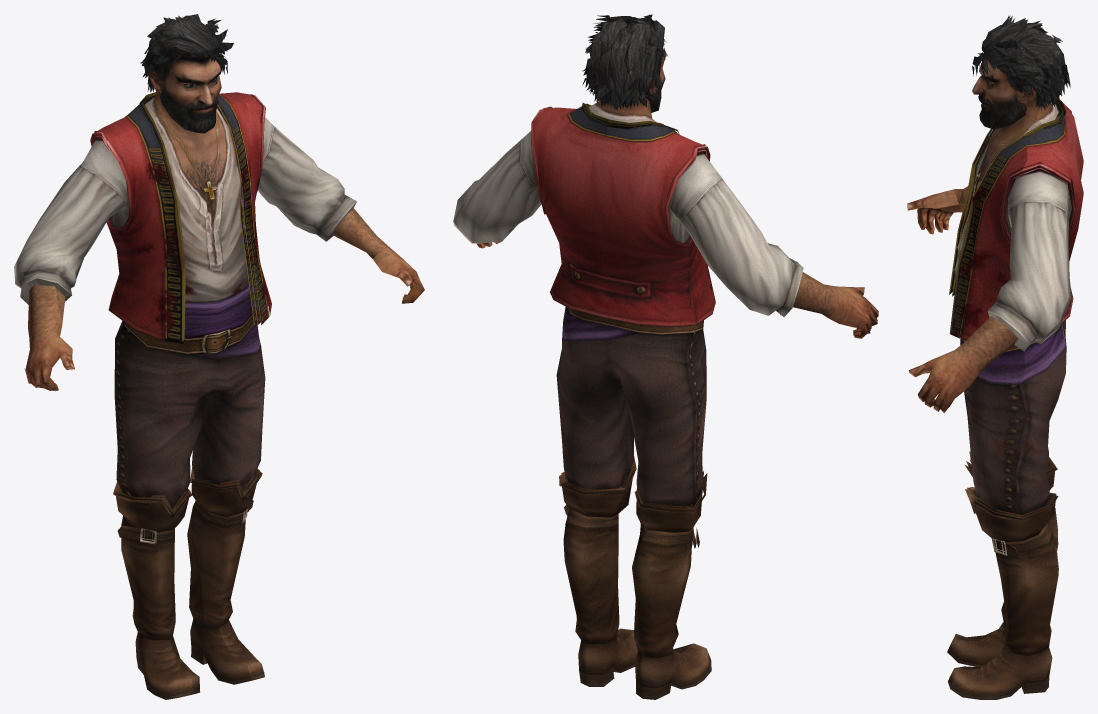
File: Peasant Farmer.obj
3 views of the same model, side by side, from view 1: azimuth 30°, elevation 25°; view 2: azimuth 150°, elevation 25°; view 3: azimuth 270°, elevation 25° (orthographic). The views are drawn at different scales.
Parts seen in each view (by area): view 1: cadnav; view 2: cadnav; view 3: cadnav.
Boxes of the visible parts, box(x1,y1,x2,y2) form: cadnav: box(14, 14, 424, 699); cadnav: box(453, 14, 878, 699); cadnav: box(907, 15, 1083, 699).
Size of the model in its own units: 11.34 by 18.18 by 4.45.
